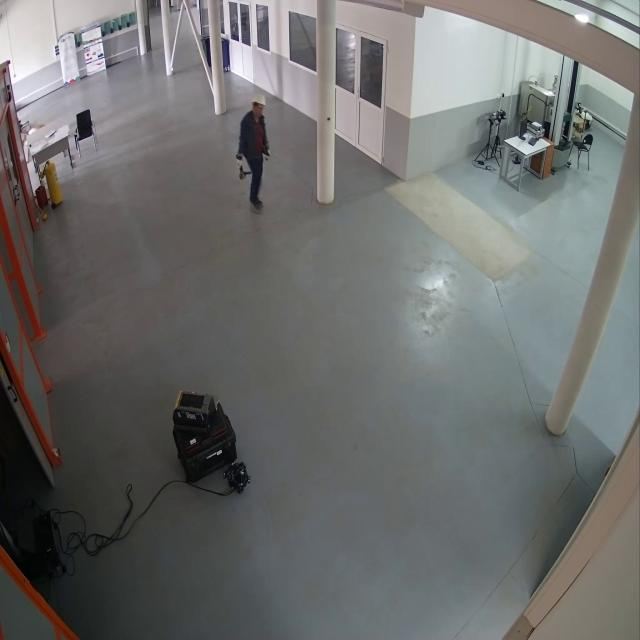Hardhat: (251, 95, 267, 106)
Person: (235, 96, 273, 212)
